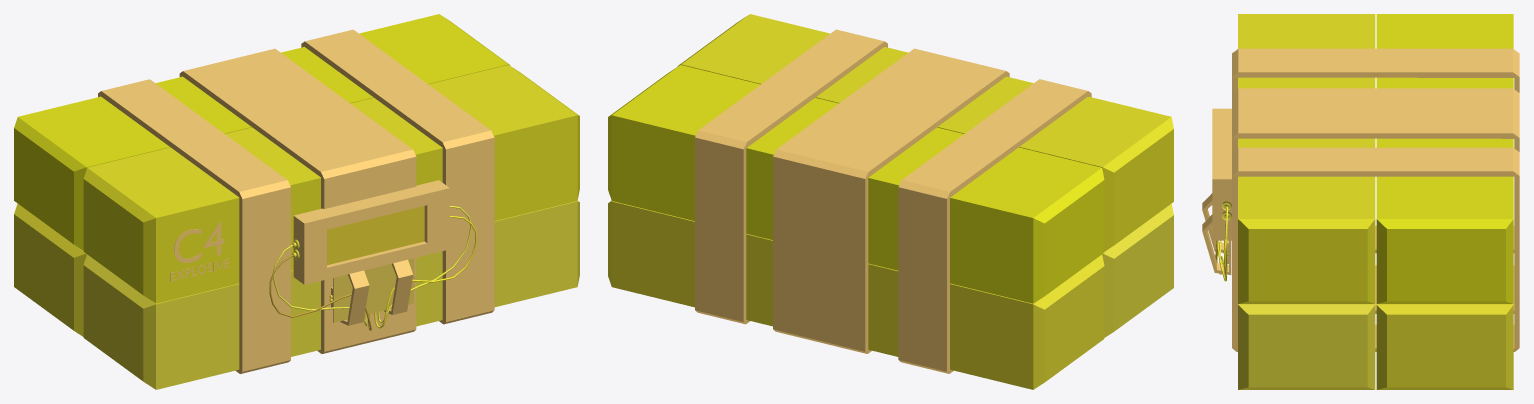
File: SAS_Trophy.fbx
3 renders of one model, left to right at view 1: azimuth 30°, elevation 25°; view 2: azimuth 150°, elevation 25°; view 3: azimuth 270°, elevation 25°, orthographic.
Visible parts, largest first — view 1: Cube.003, Cube.018, Cube.017, Plane.006, Plane.003, Plane.004, Cube.004, Cube.015, Cube.023, Cube.024, Cube.005, Cube.013 (+1 smaller); view 2: Cube.017, Plane.006, Cube.015, Cube.003, Plane.003, Plane.004, Cube.018; view 3: Cube.003, Cube.017, Plane.006, Cube.018, Cube.015, Plane.004, Plane.003, Cube.004, Cube.013, Cube.005.
Part boxes in pixels (left/top/right/bottom): Cube.003: left=83, top=65, right=579, bottom=303; Cube.018: left=83, top=201, right=579, bottom=389; Cube.017: left=14, top=14, right=510, bottom=250; Plane.006: left=179, top=48, right=416, bottom=353; Plane.003: left=98, top=79, right=290, bottom=373; Plane.004: left=301, top=29, right=494, bottom=324; Cube.004: left=293, top=180, right=449, bottom=284; Cube.015: left=14, top=203, right=86, bottom=336; Cube.023: left=327, top=206, right=424, bottom=265; Cube.024: left=333, top=258, right=414, bottom=322; Cube.005: left=340, top=270, right=369, bottom=325; Cube.013: left=384, top=259, right=413, bottom=314; Cube.017: left=608, top=65, right=1104, bottom=303; Plane.006: left=773, top=48, right=1009, bottom=353; Cube.015: left=608, top=201, right=1104, bottom=389; Cube.003: left=677, top=14, right=1173, bottom=251; Plane.003: left=898, top=79, right=1091, bottom=373; Plane.004: left=695, top=29, right=887, bottom=324; Cube.018: left=1102, top=203, right=1173, bottom=337; Cube.003: left=1238, top=14, right=1375, bottom=303; Cube.017: left=1376, top=14, right=1513, bottom=303; Plane.006: left=1232, top=88, right=1519, bottom=313; Cube.018: left=1238, top=304, right=1375, bottom=389; Cube.015: left=1376, top=304, right=1513, bottom=389; Plane.004: left=1232, top=147, right=1519, bottom=351; Plane.003: left=1232, top=48, right=1519, bottom=253; Cube.004: left=1212, top=108, right=1231, bottom=240; Cube.013: left=1202, top=214, right=1231, bottom=274; Cube.005: left=1202, top=193, right=1223, bottom=252.
Bounding box in the file's own units: 539 × 214 × 340.
